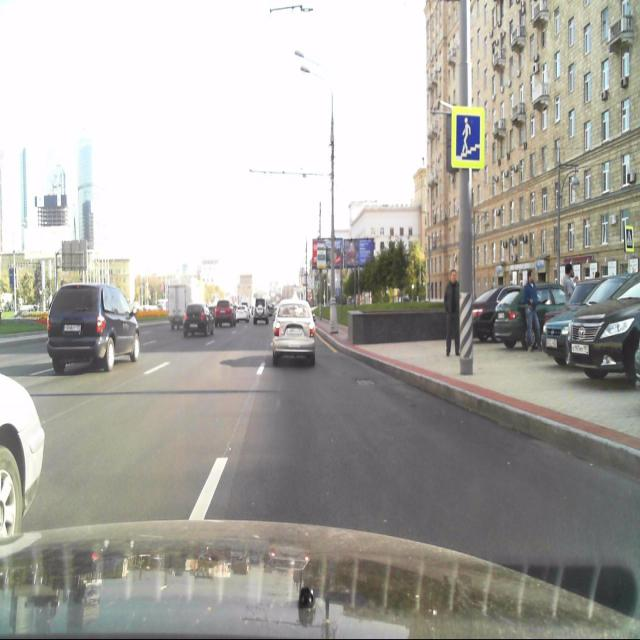road sign: (452, 105, 484, 171)
